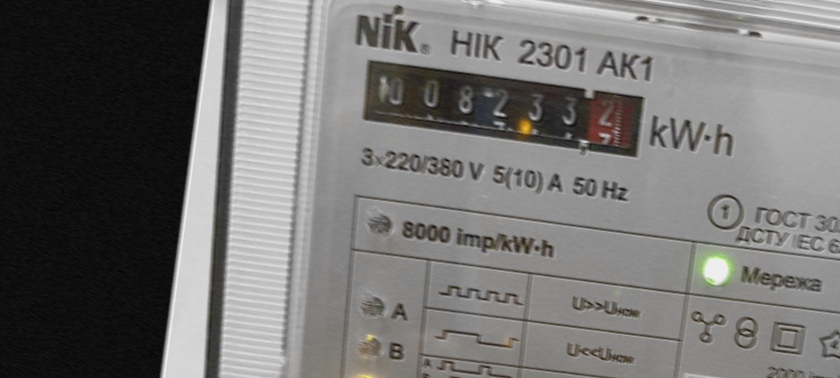0: (384, 72, 408, 107), (420, 76, 443, 109)
2: (489, 85, 513, 119), (597, 95, 618, 128)
3: (560, 92, 581, 126), (525, 89, 546, 122)
8: (455, 81, 477, 115)
screen: (349, 46, 658, 167)
